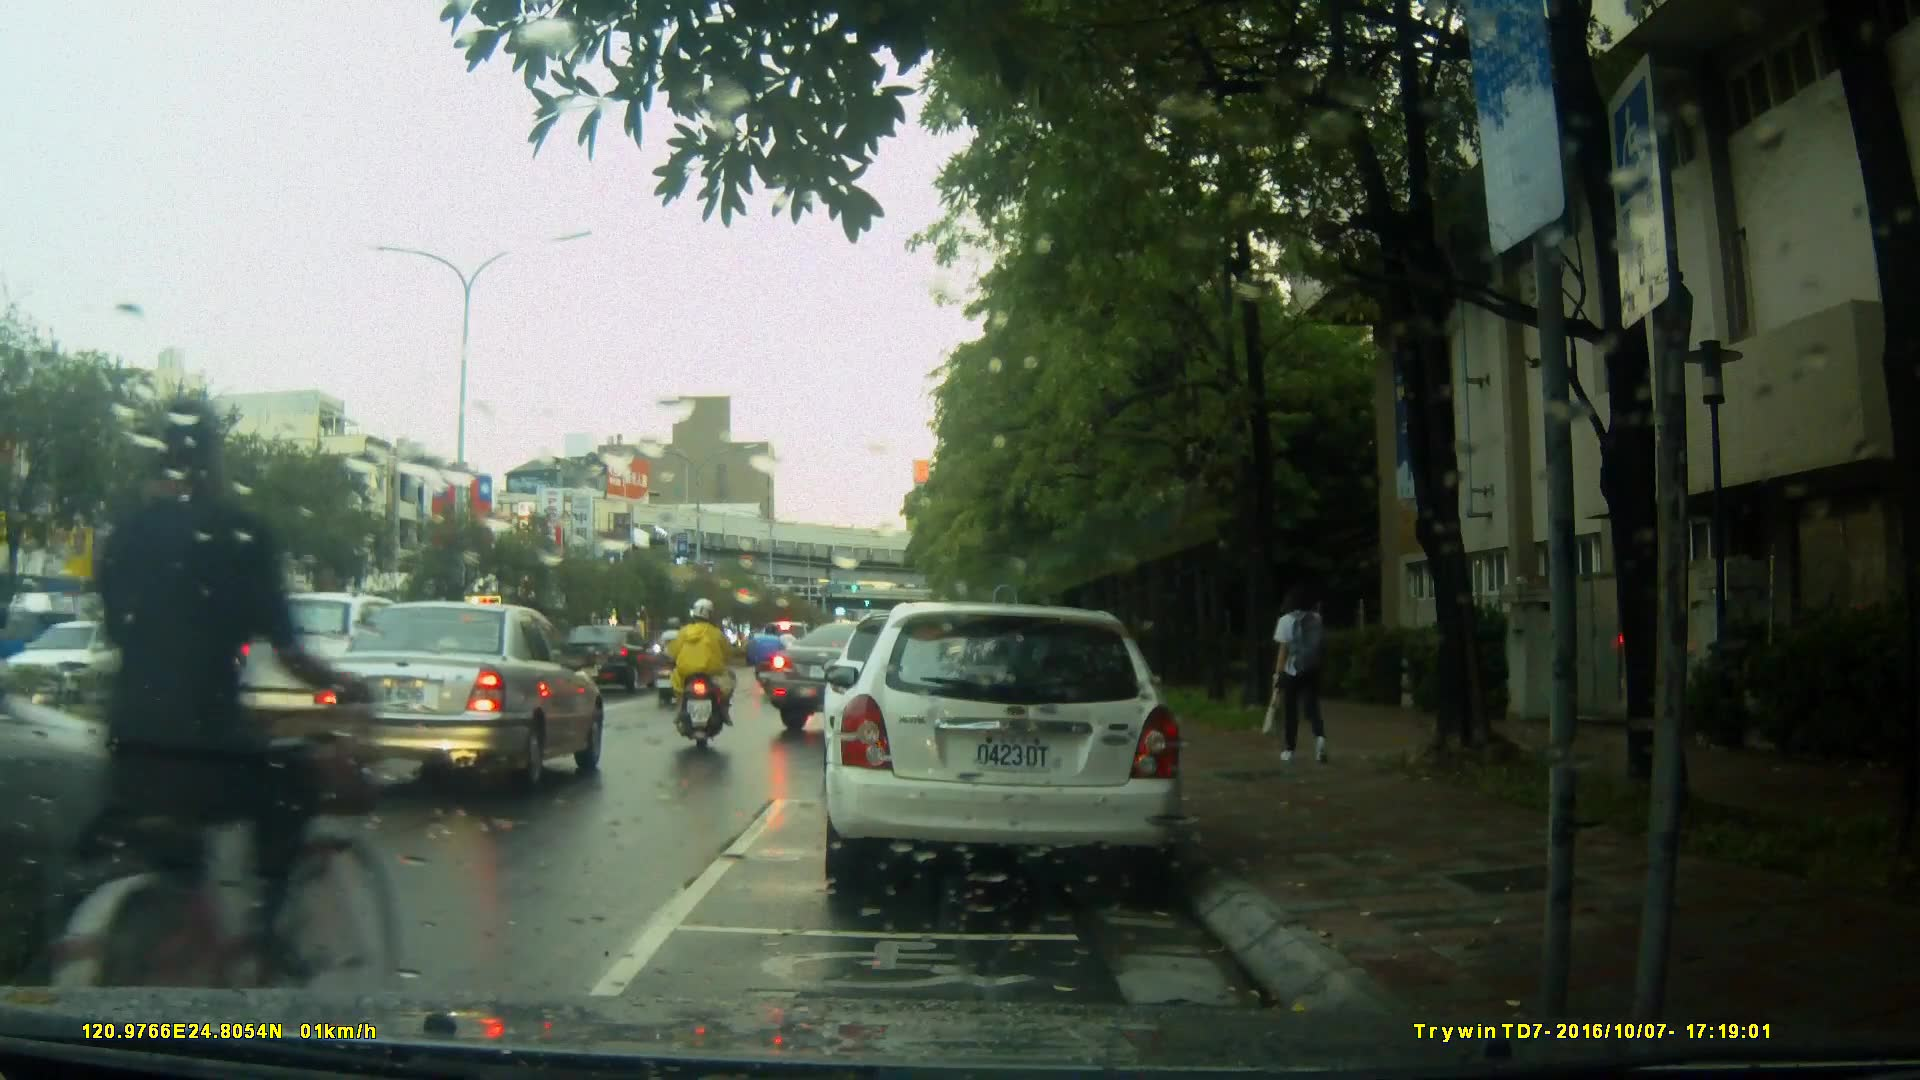pedestrian: (1272, 572, 1338, 770)
rider: (62, 387, 396, 1064), (669, 592, 734, 758), (643, 611, 684, 706), (760, 620, 786, 704)
vehicle: (1, 565, 275, 988), (820, 602, 1188, 898), (312, 599, 612, 791), (235, 591, 452, 738), (760, 620, 984, 734), (559, 624, 665, 695)
